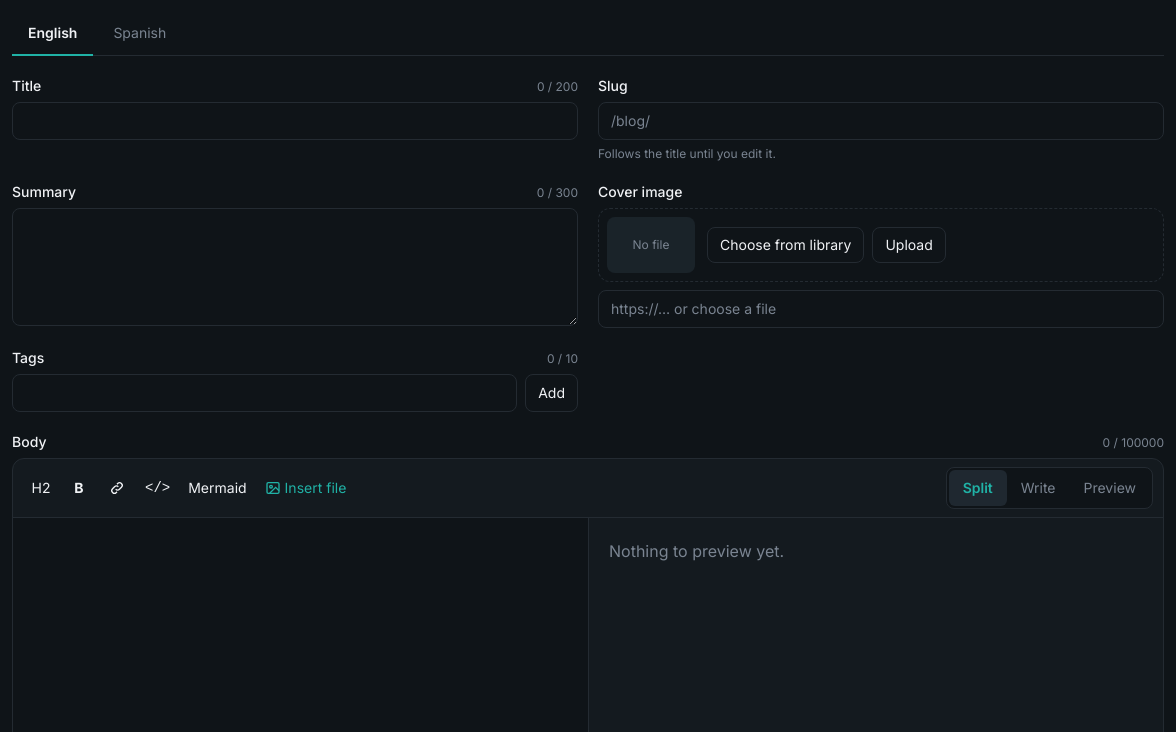
Test: ItemForm language tabs › shows in Spanish only the bilingual fields, each with its English value as hint
In the field labelled "Title": coordinates (295, 121) [12,102,578,140], type "Hello"
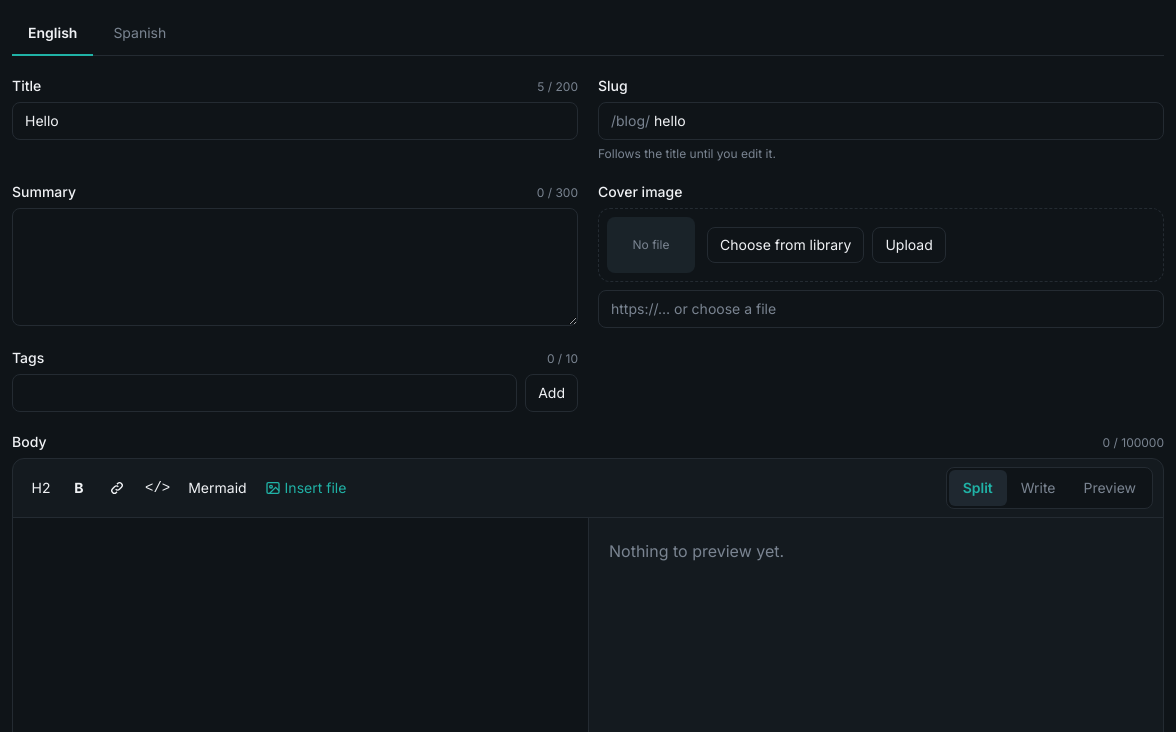
In the text box labelled "Summary": coordinates (295, 267) [12,208,578,326], type "Short."
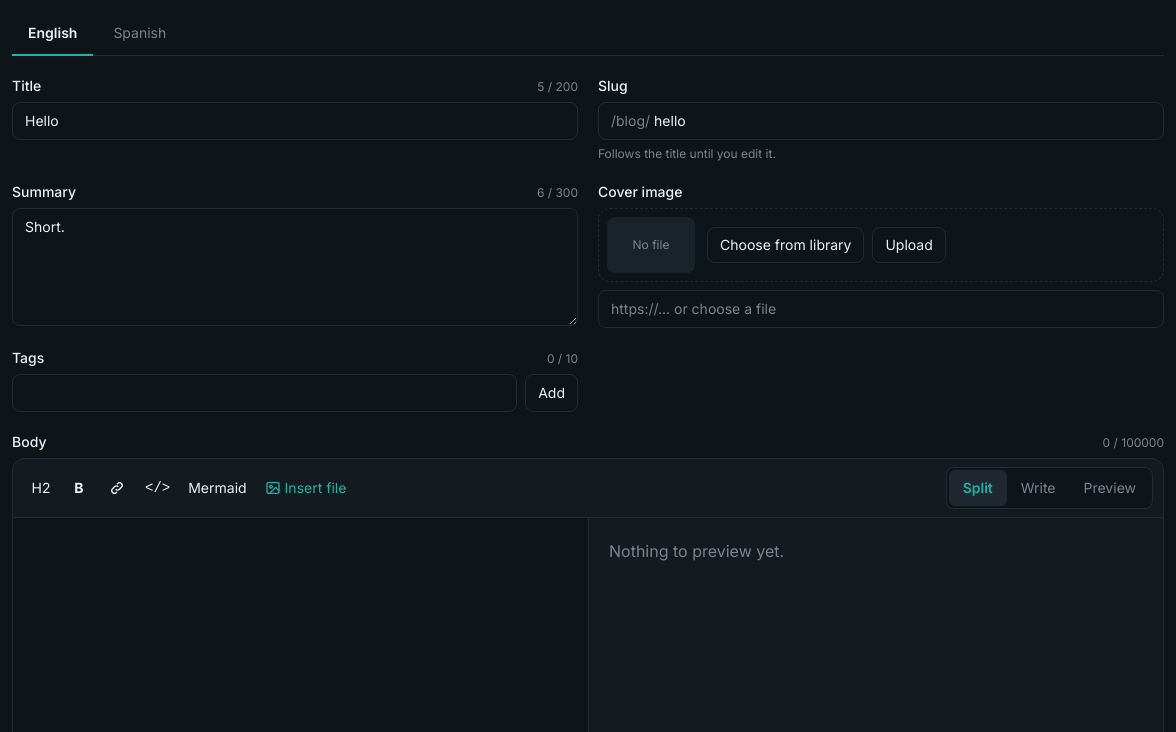
Click the tab "Spanish": coordinates (140, 34) [97,12,182,56]
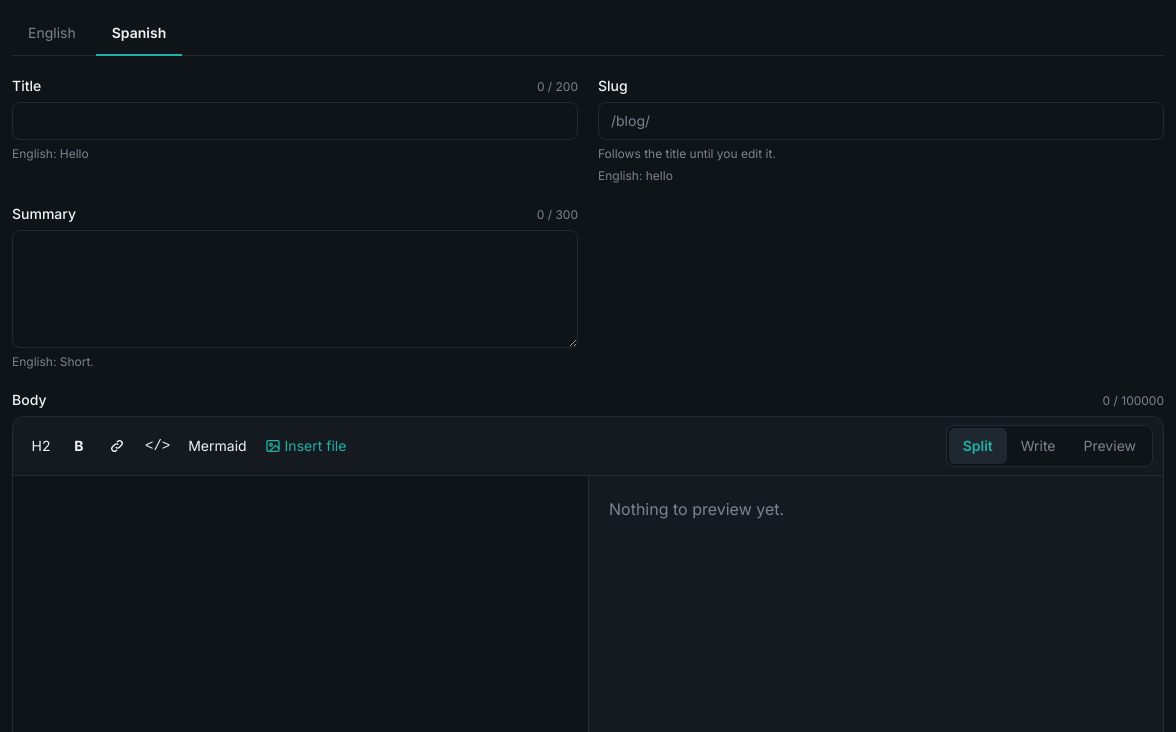
Expected: the field labelled "Title" is shown, [12,102,578,140]
Expected: the field labelled "Slug" is shown, [650,103,1163,139]
Expected: the text box labelled "Summary" is shown, [12,230,578,348]
